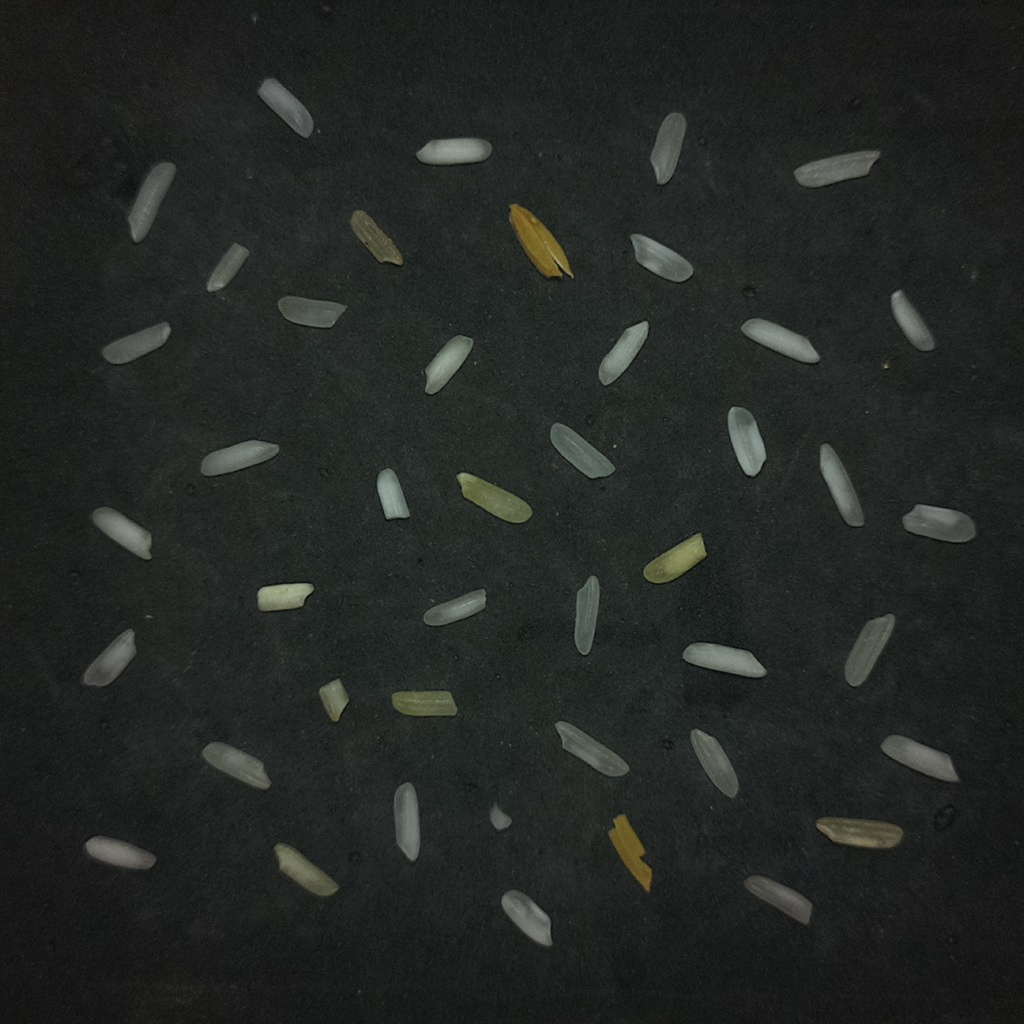broken: (258, 78, 313, 137), (202, 742, 270, 789), (630, 234, 693, 282), (82, 629, 135, 686), (501, 890, 551, 946), (423, 589, 485, 626), (277, 295, 346, 328), (206, 243, 249, 292), (489, 803, 511, 830)
chalky: (740, 318, 819, 363), (598, 320, 648, 385), (91, 507, 151, 559), (200, 439, 279, 476), (683, 642, 765, 677), (425, 335, 473, 394), (727, 408, 765, 476), (891, 290, 934, 350), (84, 835, 155, 869), (416, 137, 491, 165), (376, 468, 409, 520), (257, 583, 314, 611)
discolored: (456, 472, 532, 523), (274, 843, 337, 896), (643, 533, 707, 584), (350, 210, 403, 265), (815, 817, 903, 848), (391, 690, 457, 716), (318, 678, 349, 721)
foreign: (608, 814, 651, 892)
paddy: (510, 204, 573, 277)
whole: (555, 721, 628, 776), (819, 443, 865, 527), (127, 162, 175, 242), (844, 613, 895, 686), (881, 735, 959, 782), (549, 423, 613, 478), (744, 875, 812, 924), (690, 729, 738, 797), (793, 151, 879, 187), (101, 322, 171, 365), (902, 504, 975, 542), (650, 112, 686, 184), (393, 782, 421, 862), (574, 575, 599, 655)
